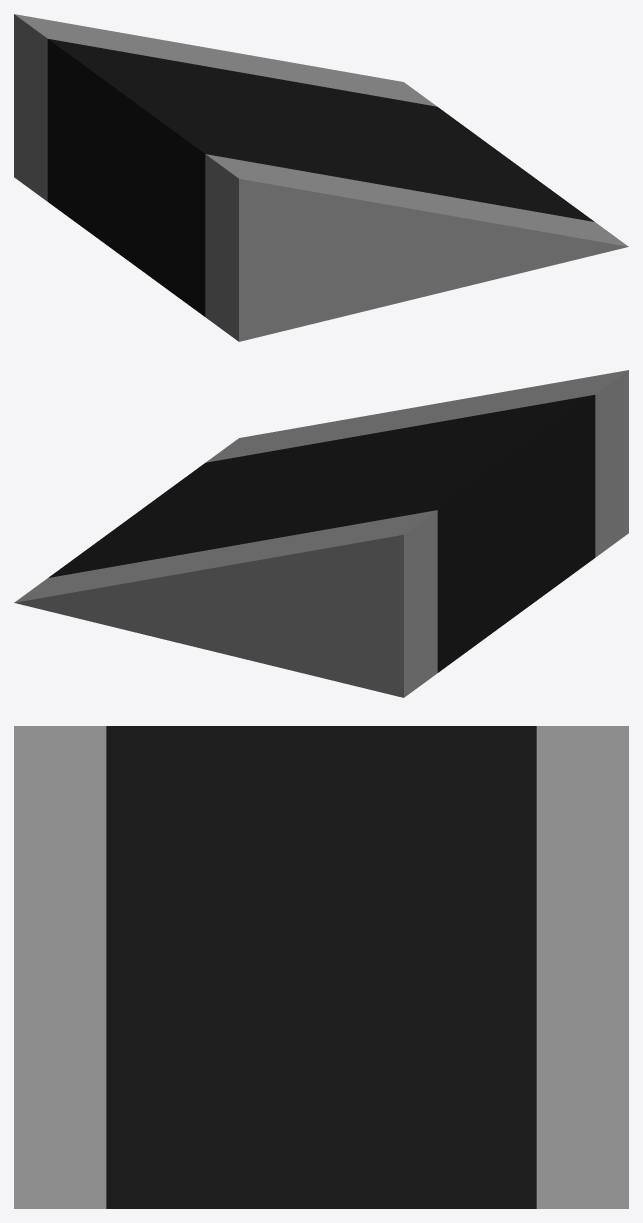
Rendered from cpsMap_Ramp.obj.
The picture shows the model from 3 angles, top to bottom: view 1: azimuth 30°, elevation 25°; view 2: azimuth 150°, elevation 25°; view 3: azimuth 270°, elevation 25°; orthographic projection. The views are drawn at different scales.
Parts seen in each view (by area): view 1: Ramp.002_Cube.016; view 2: Ramp.002_Cube.016; view 3: Ramp.002_Cube.016.
Boxes of the visible parts, x1=… form: Ramp.002_Cube.016: x1=14, y1=14, x2=628, y2=341; Ramp.002_Cube.016: x1=14, y1=370, x2=628, y2=697; Ramp.002_Cube.016: x1=14, y1=726, x2=628, y2=1208.
Size of the model in its own units: 7.28 by 2.91 by 7.28.
